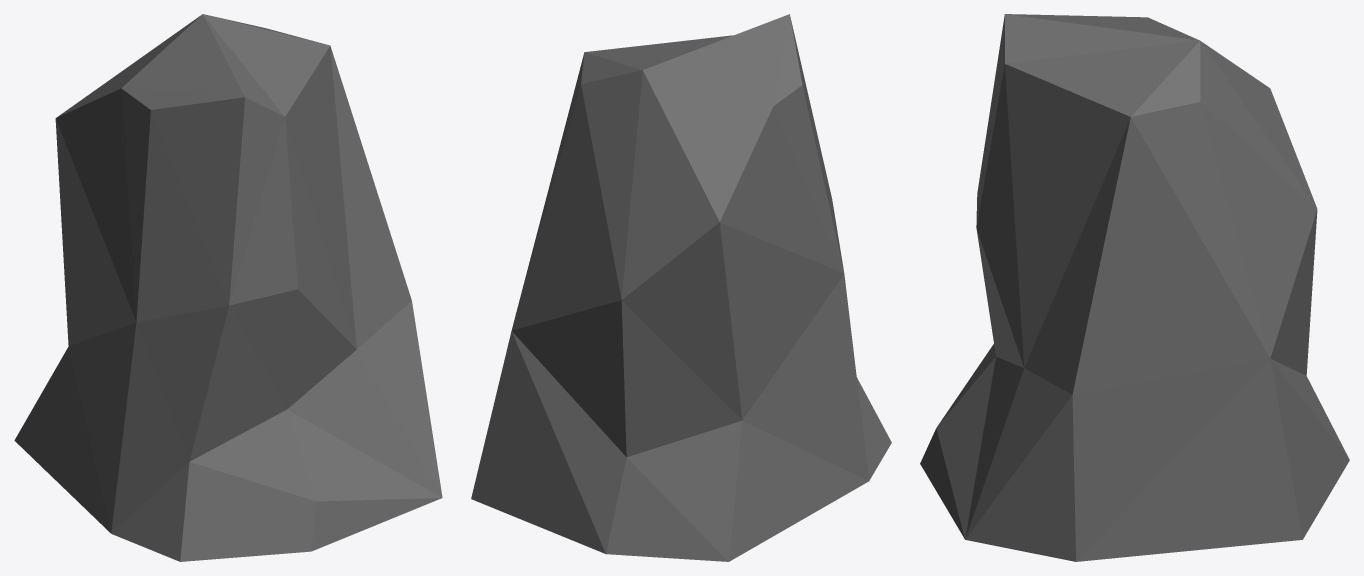
File: Stone_A_15.FBX
3 views of the same model, side by side, from view 1: azimuth 30°, elevation 25°; view 2: azimuth 150°, elevation 25°; view 3: azimuth 270°, elevation 25° (orthographic). The views are drawn at different scales.
Visible parts, largest first — view 1: Stone_A_15; view 2: Stone_A_15; view 3: Stone_A_15.
Boxes of the visible parts, x1,y1,x2,y2 form: Stone_A_15: (14, 14, 442, 561); Stone_A_15: (471, 14, 891, 561); Stone_A_15: (920, 14, 1349, 561).
Size of the model in its own units: 2.35 by 2.93 by 2.61.
